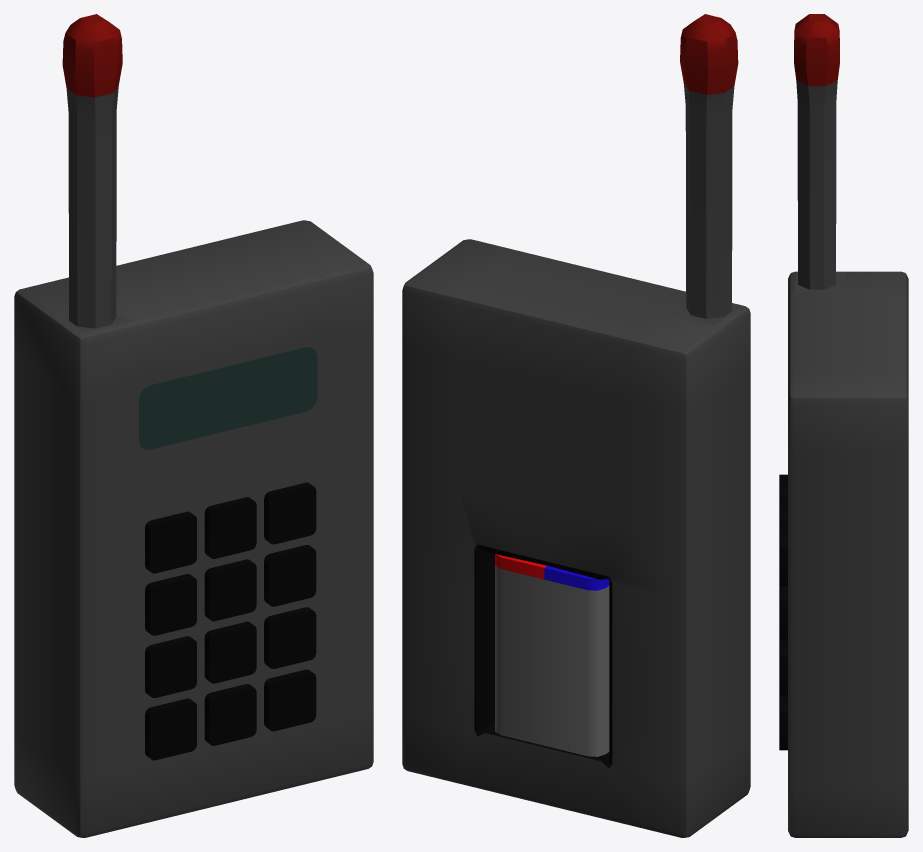
The model's file is radio.fbx.
The picture shows the model from 3 angles, left to right: view 1: azimuth 30°, elevation 25°; view 2: azimuth 150°, elevation 25°; view 3: azimuth 270°, elevation 25°; orthographic projection. The views are drawn at different scales.
Parts seen in each view (by area): view 1: Cube; view 2: Cube, Cube.001; view 3: Cube.
Part boxes in pixels (left/top/right/bottom): Cube: left=14, top=14, right=373, bottom=837; Cube: left=402, top=14, right=750, bottom=837; Cube.001: left=495, top=554, right=609, bottom=756; Cube: left=779, top=14, right=908, bottom=837.
Size of the model in its own units: 200 by 517 by 85.29.
